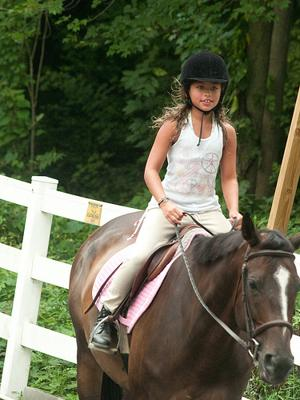person: (86, 49, 245, 358)
